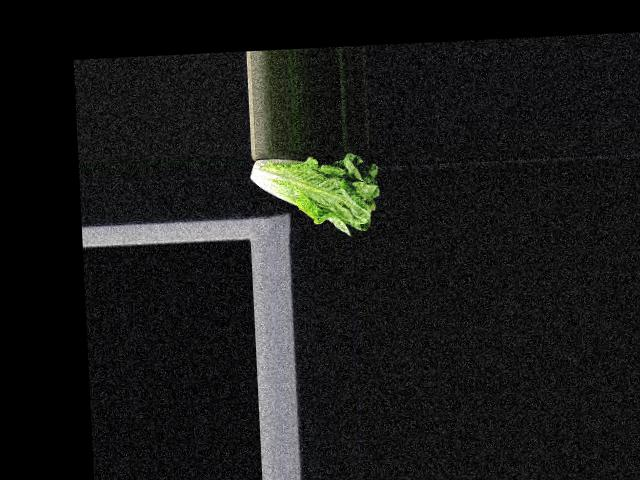lettuce: (248, 151, 383, 239)
